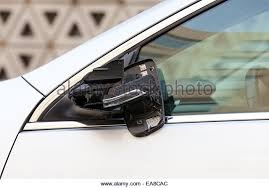Broken-glass: (71, 59, 165, 132)
